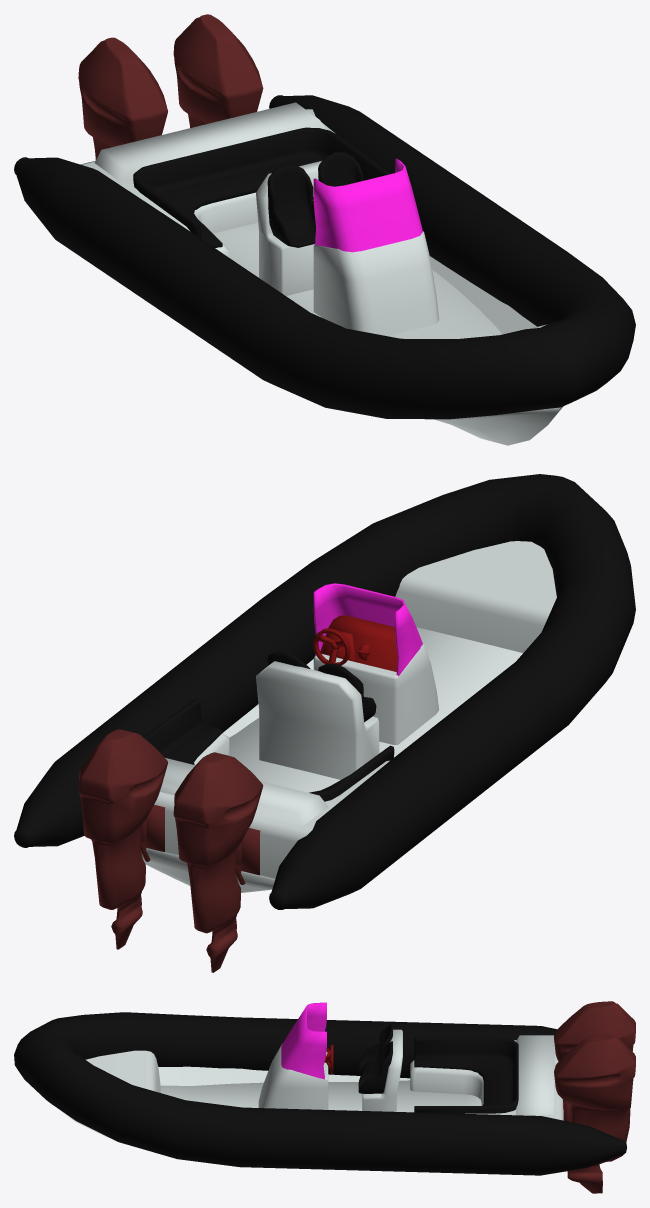
The model's file is Powerboat.fbx.
3 views of the same model, one above another, from view 1: azimuth 30°, elevation 25°; view 2: azimuth 150°, elevation 25°; view 3: azimuth 270°, elevation 25° (orthographic). The views are drawn at different scales.
Visible parts, largest first — view 1: sm_soft_parts, sm_hard_parts, sm_engines, sm_window; view 2: sm_soft_parts, sm_hard_parts, sm_engines, sm_window, sm_extras; view 3: sm_soft_parts, sm_hard_parts, sm_engines, sm_window.
Part boxes in pixels (bbox=[...]): sm_soft_parts: bbox=[14, 95, 635, 419]; sm_hard_parts: bbox=[80, 102, 563, 445]; sm_engines: bbox=[78, 14, 263, 159]; sm_window: bbox=[313, 158, 422, 252]; sm_soft_parts: bbox=[14, 474, 635, 909]; sm_hard_parts: bbox=[141, 541, 556, 892]; sm_engines: bbox=[78, 729, 263, 972]; sm_window: bbox=[313, 583, 422, 676]; sm_extras: bbox=[313, 615, 397, 671]; sm_soft_parts: bbox=[14, 1012, 626, 1175]; sm_hard_parts: bbox=[60, 1029, 563, 1137]; sm_engines: bbox=[554, 1001, 635, 1193]; sm_window: bbox=[281, 1002, 326, 1079].
Bounding box in the file's own units: 429 × 978 × 277.
